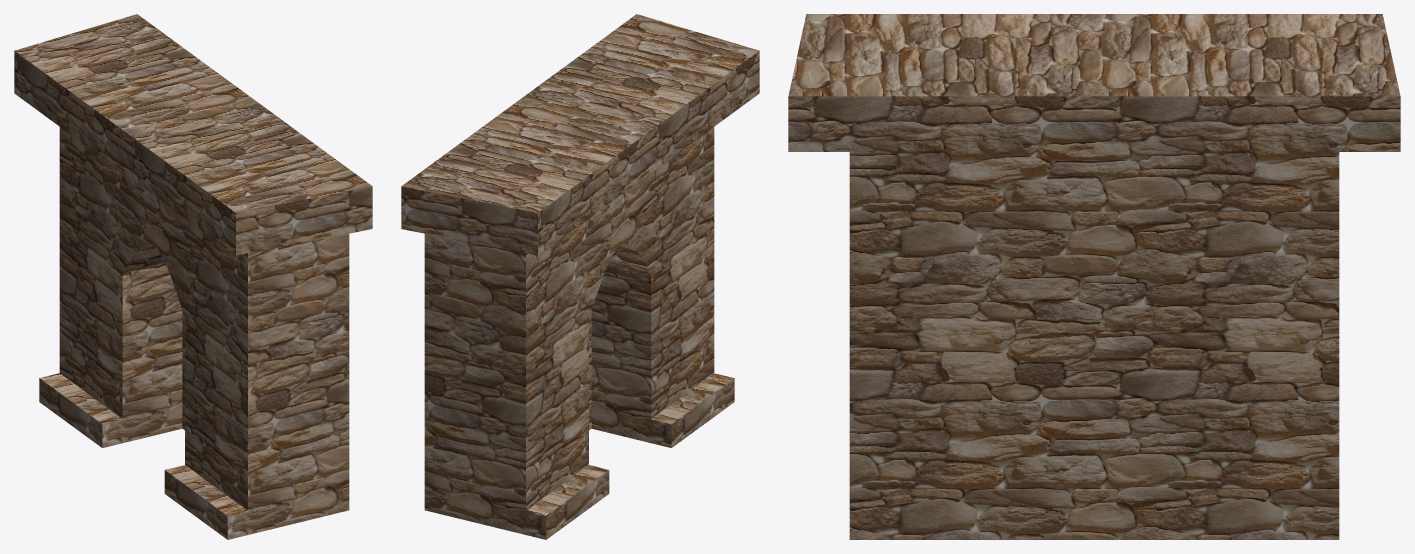
Rendered from in_gates.FBX.
3 renders of one model, left to right at view 1: azimuth 30°, elevation 25°; view 2: azimuth 150°, elevation 25°; view 3: azimuth 270°, elevation 25°, orthographic. The views are drawn at different scales.
Parts seen in each view (by area): view 1: Box001; view 2: Box001; view 3: Box001.
Boxes of the visible parts, x1,y1,x2,y2 form: Box001: [14, 14, 372, 539]; Box001: [401, 14, 759, 539]; Box001: [788, 14, 1400, 539].
Bounding box in the file's own units: 31.84 × 79.95 × 100.
1 material, 1 textured.
